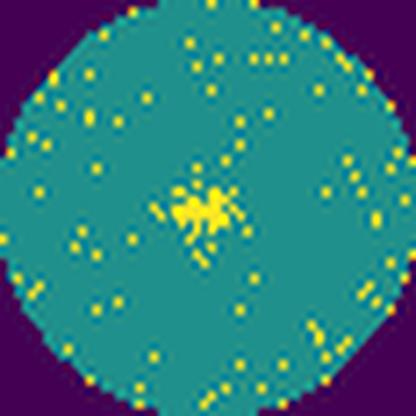Center: (165, 183, 233, 239)
